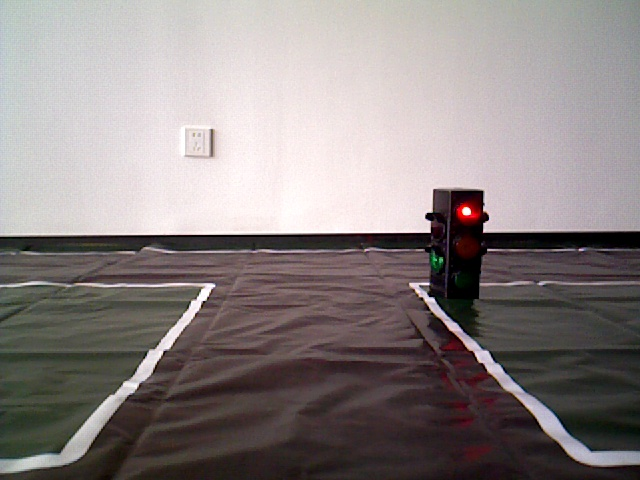red: (430, 191, 481, 299)
